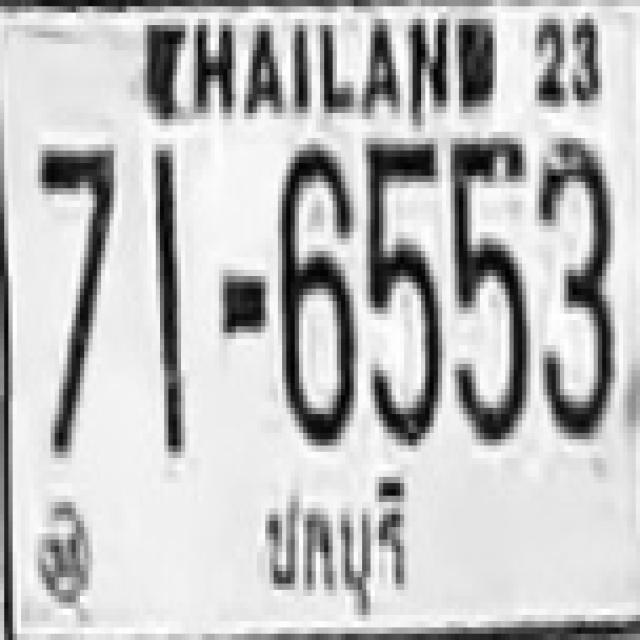1: (152, 150, 181, 452), (152, 144, 181, 440)
3: (534, 132, 610, 433)
5: (446, 132, 526, 439), (362, 135, 438, 442)
6: (278, 138, 354, 439)
7: (34, 141, 114, 449), (34, 144, 114, 358)
CBI: (244, 471, 411, 620)
